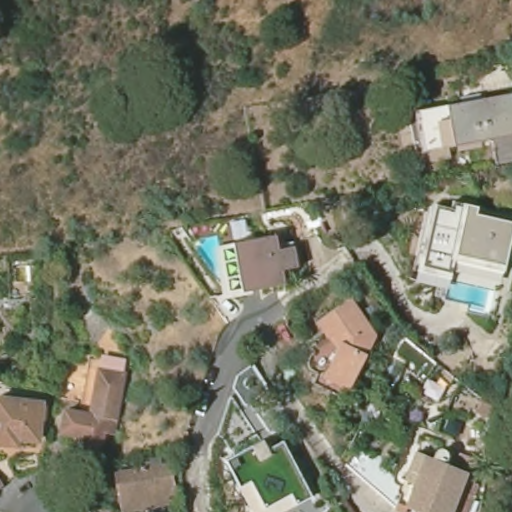pool: (184, 233, 223, 280), (443, 276, 495, 309)
